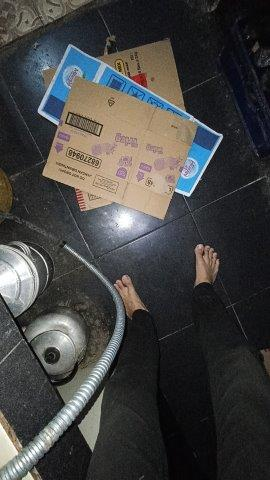kardus: (40, 42, 221, 219)
